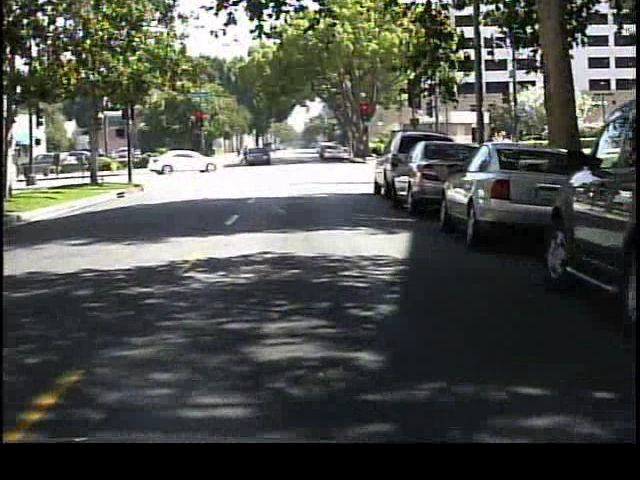person: (237, 143, 251, 169)
